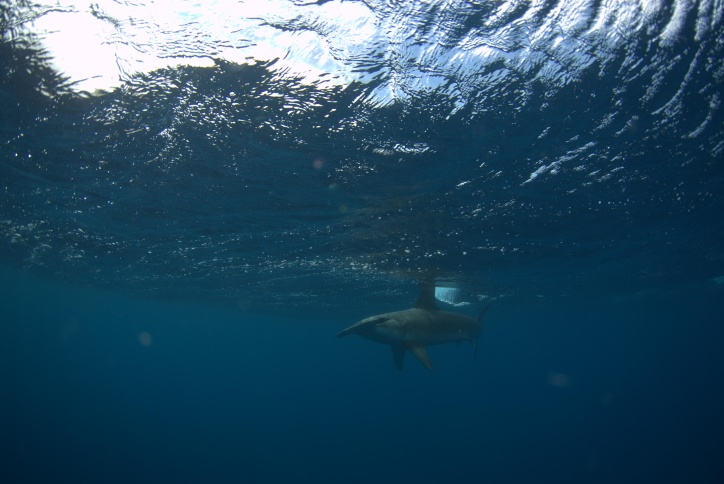Hammer: (302, 263, 514, 385)
